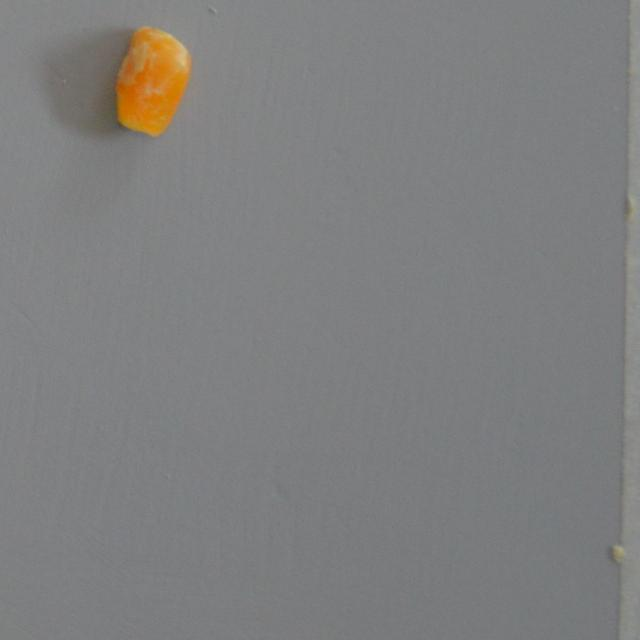pelicula: (111, 24, 194, 138)
